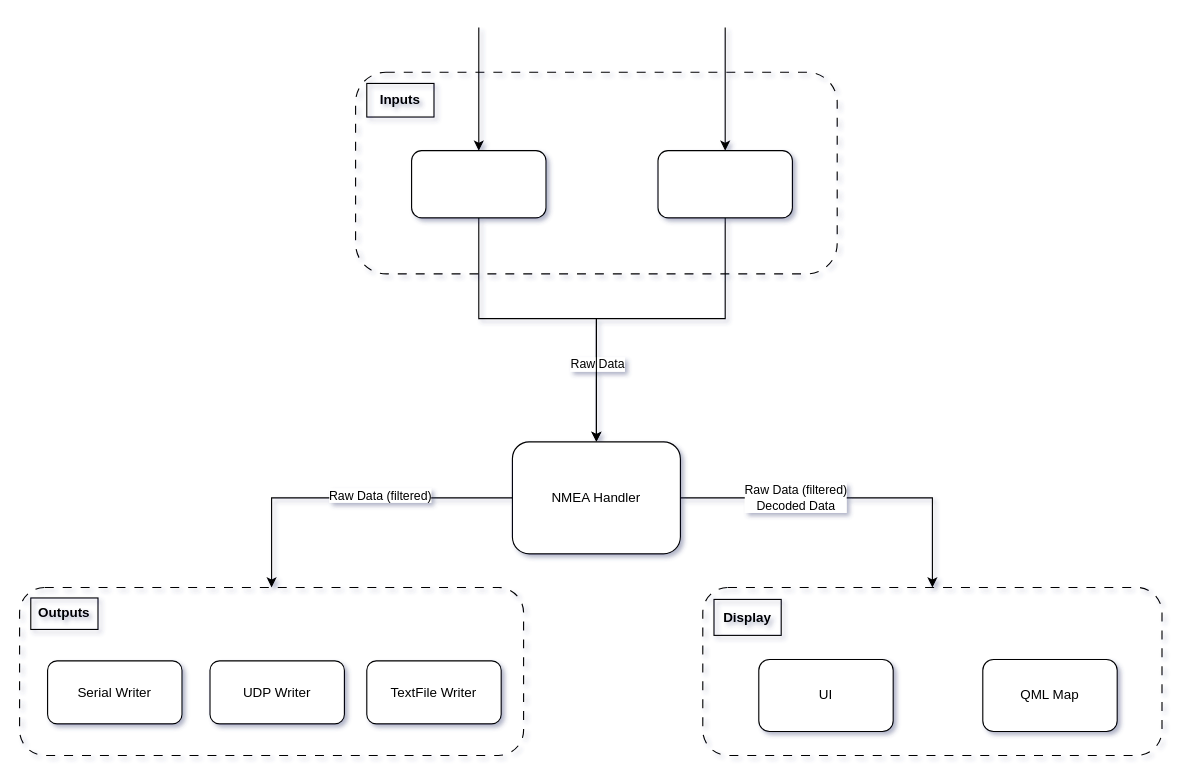
Image size: 1188x782. Some labels were removed from this diagram. The shapes that lost their labels are listed below. From the top down, each one's centre as x and y in pixels, then its label:
At point 478,184: "Serial Reader".
At point 724,184: "UDP Reader".
